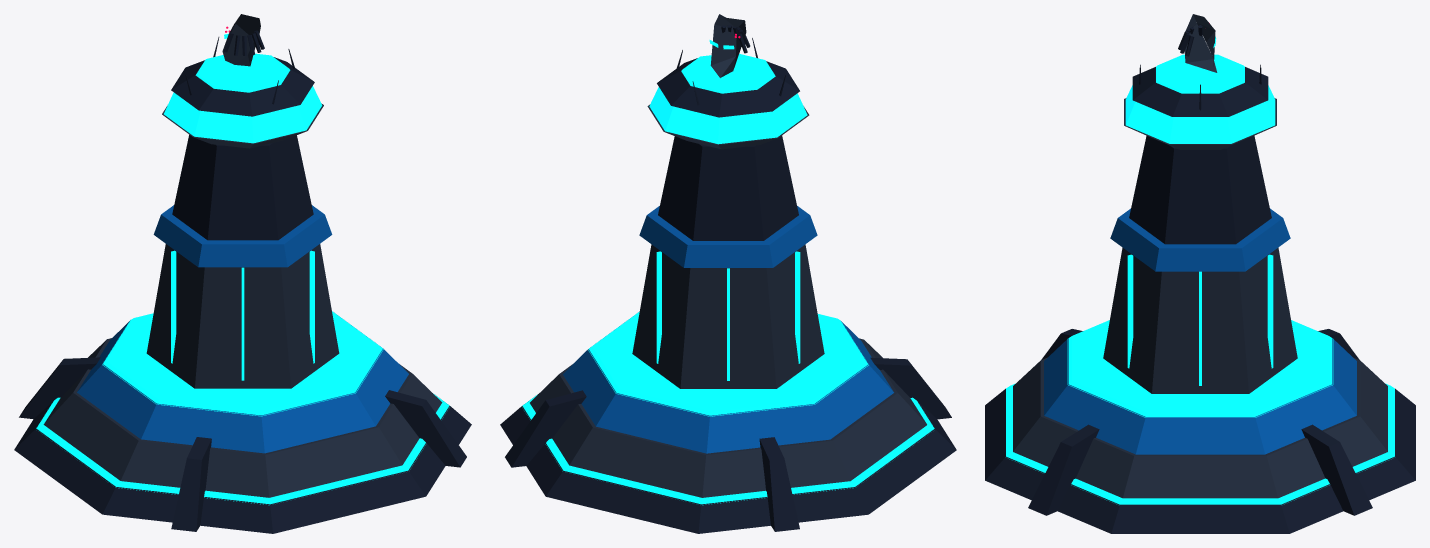
Rendered from hq_predator.glb.
3 views of the same model, side by side, from view 1: azimuth 30°, elevation 25°; view 2: azimuth 150°, elevation 25°; view 3: azimuth 270°, elevation 25° (orthographic).
Parts seen in each view (by area): view 1: HQ_Tower_Lower, HQ_Base_Tier1, HQ_Base_Tier0, HQ_Base_Tier2, HQ_Tower_Upper, HQ_LED_Ring1, HQ_Mid_Collar, HQ_Observatory_Glass, HQ_Observatory_Roof, HQ_LED_Ring0, HQ_Observatory_LEDRing, HQ_Buttress_315 (+6 smaller); view 2: HQ_Tower_Lower, HQ_Base_Tier1, HQ_Base_Tier0, HQ_Base_Tier2, HQ_Tower_Upper, HQ_LED_Ring1, HQ_Mid_Collar, HQ_Observatory_Glass, HQ_Observatory_Roof, HQ_LED_Ring0, HQ_Buttress_45, HQ_Observatory_LEDRing (+6 smaller); view 3: HQ_Tower_Lower, HQ_Base_Tier1, HQ_Base_Tier0, HQ_Base_Tier2, HQ_Tower_Upper, HQ_LED_Ring1, HQ_Mid_Collar, HQ_Observatory_Glass, HQ_Observatory_Roof, HQ_LED_Ring0, HQ_Buttress_315, HQ_Buttress_45 (+5 smaller).
Boxes of the visible parts, x1,y1,x2,y2 form: HQ_Tower_Lower: (146,244,339,388); HQ_Base_Tier1: (43,338,442,497); HQ_Base_Tier0: (14,401,471,533); HQ_Base_Tier2: (77,312,408,453); HQ_Tower_Upper: (172,134,313,240); HQ_LED_Ring1: (102,311,383,416); HQ_Mid_Collar: (153,205,332,267); HQ_Observatory_Glass: (164,86,322,143); HQ_Observatory_Roof: (171,57,314,116); HQ_LED_Ring0: (36,393,449,505); HQ_Observatory_LEDRing: (195,53,290,92); HQ_Buttress_315: (385,390,466,467); HQ_Tower_Lower: (632,244,824,388); HQ_Base_Tier1: (530,338,926,497); HQ_Base_Tier0: (500,401,956,533); HQ_Base_Tier2: (563,321,893,453); HQ_Tower_Upper: (658,135,798,240); HQ_LED_Ring1: (588,312,868,416); HQ_Mid_Collar: (639,206,817,267); HQ_Observatory_Glass: (649,87,807,144); HQ_Observatory_Roof: (657,58,799,117); HQ_LED_Ring0: (521,394,934,505); HQ_Buttress_45: (505,390,586,467); HQ_Observatory_LEDRing: (681,54,775,93); HQ_Tower_Lower: (1103,247,1297,393); HQ_Base_Tier1: (1013,357,1387,498); HQ_Base_Tier0: (985,388,1415,533); HQ_Base_Tier2: (1044,338,1356,454); HQ_Tower_Upper: (1129,135,1271,244); HQ_LED_Ring1: (1067,320,1333,417); HQ_Mid_Collar: (1110,208,1290,271); HQ_Observatory_Glass: (1125,85,1275,143); HQ_Observatory_Roof: (1132,67,1268,116); HQ_LED_Ring0: (1006,383,1394,504); HQ_Buttress_315: (1028,424,1099,515); HQ_Buttress_45: (1301,424,1372,515).
Bounding box in the file's own units: 11.46 × 12.5 × 11.46.
